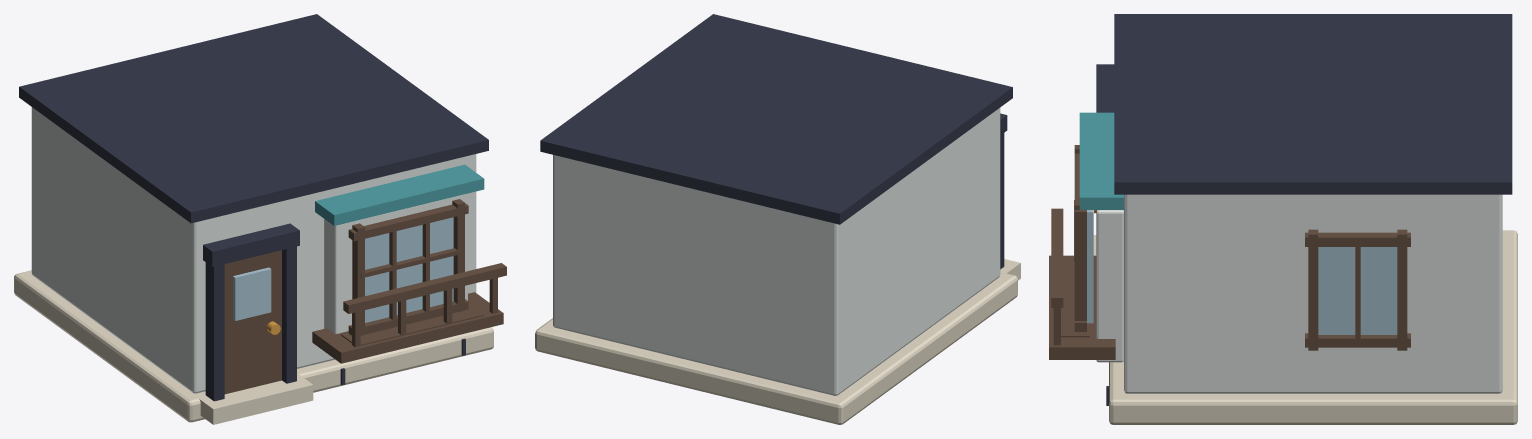
The model's file is base_house_banks_1.glb.
3 renders of one model, left to right at view 1: azimuth 30°, elevation 25°; view 2: azimuth 150°, elevation 25°; view 3: azimuth 270°, elevation 25°, orthographic. The views are drawn at different scales.
Visible parts, largest first — view 1: base_house_banks_1 ink, base_house_banks_1 plaster, base_house_banks_1 wood, base_house_banks_1 mist, base_house_banks_1 glass, base_house_banks_1 river; view 2: base_house_banks_1 plaster, base_house_banks_1 ink, base_house_banks_1 mist; view 3: base_house_banks_1 ink, base_house_banks_1 plaster, base_house_banks_1 mist, base_house_banks_1 wood, base_house_banks_1 glass, base_house_banks_1 river.
Boxes of the visible parts, bbox=[...] form: base_house_banks_1 ink: bbox=[19, 14, 488, 401]; base_house_banks_1 plaster: bbox=[31, 107, 476, 393]; base_house_banks_1 wood: bbox=[224, 199, 506, 394]; base_house_banks_1 mist: bbox=[14, 270, 493, 424]; base_house_banks_1 glass: bbox=[233, 217, 453, 322]; base_house_banks_1 river: bbox=[315, 164, 484, 225]; base_house_banks_1 plaster: bbox=[553, 108, 1000, 395]; base_house_banks_1 ink: bbox=[540, 14, 1012, 269]; base_house_banks_1 mist: bbox=[535, 259, 1020, 424]; base_house_banks_1 ink: bbox=[1096, 14, 1512, 405]; base_house_banks_1 plaster: bbox=[1096, 194, 1502, 393]; base_house_banks_1 mist: bbox=[1093, 230, 1517, 424]; base_house_banks_1 wood: bbox=[1049, 145, 1410, 359]; base_house_banks_1 glass: bbox=[1087, 210, 1397, 334]; base_house_banks_1 river: bbox=[1079, 112, 1123, 209].
Size of the model in its own units: 0.7445 by 0.48 by 0.8425.
